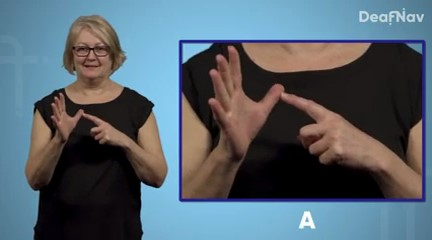A: (47, 90, 123, 152)
